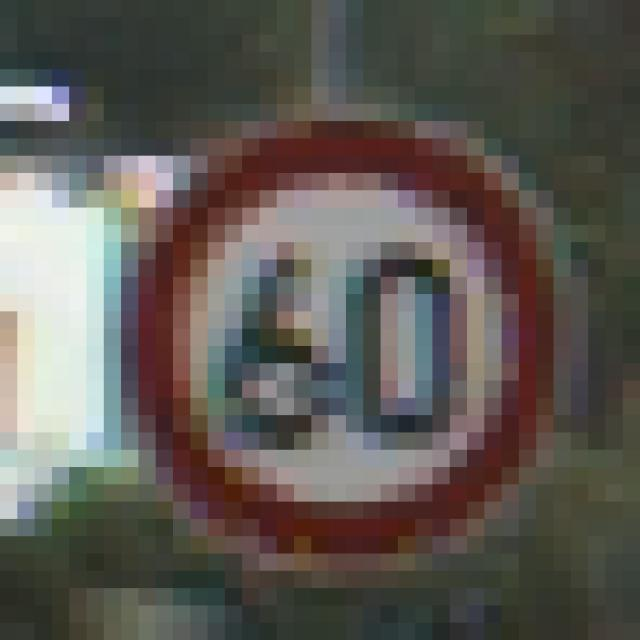Ograniczenie predkosci do 60: (125, 121, 552, 558)
